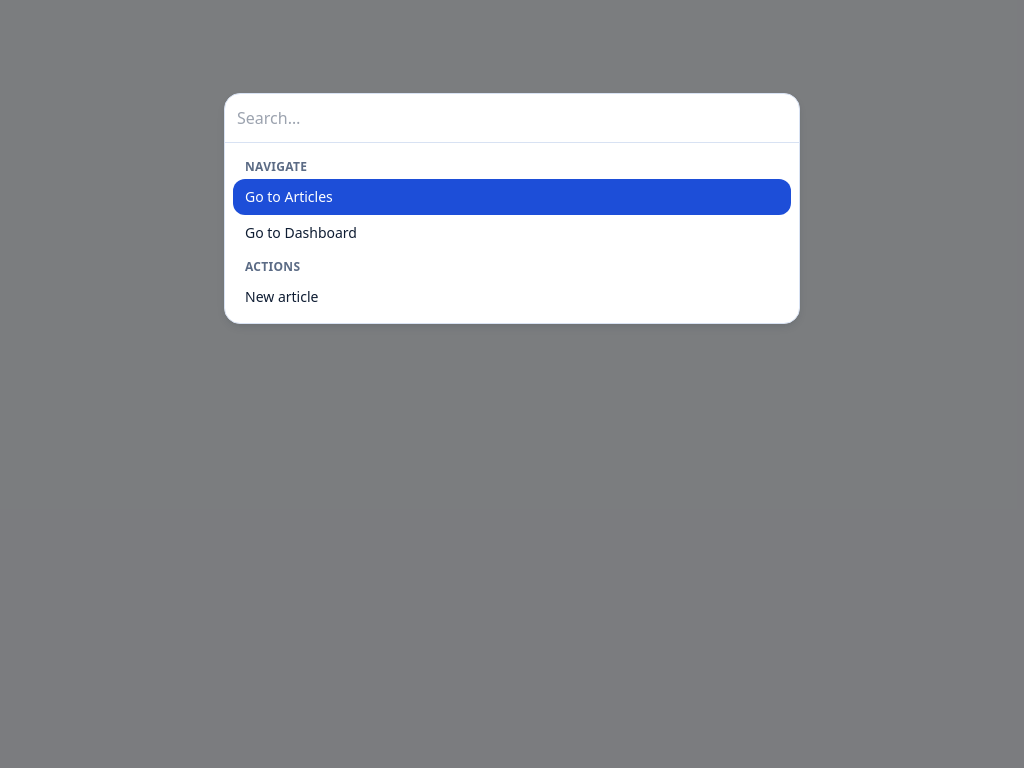
it: <CommandPalette /> › shows the empty label when nothing matches
The image size is (1024, 768).
Type "zzzz" into the dropdown. click: (512, 118)
box: x1=237 y1=106 x2=787 y2=130
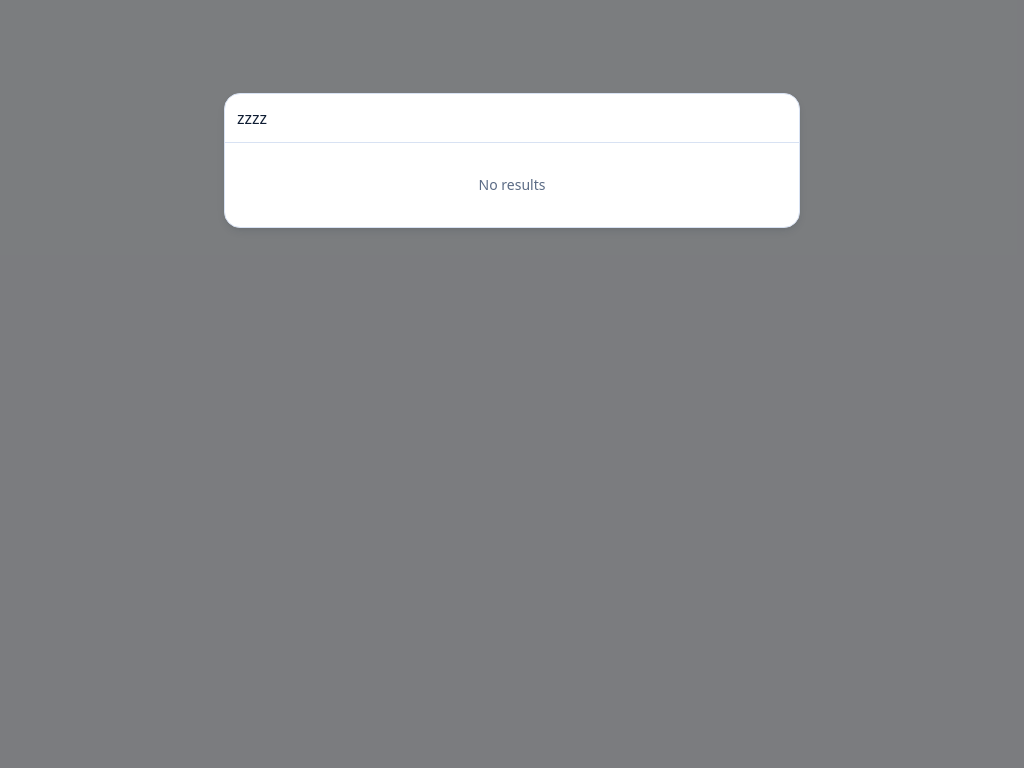
Expected: the list item "No results" is shown, x1=478 y1=175 x2=545 y2=194
